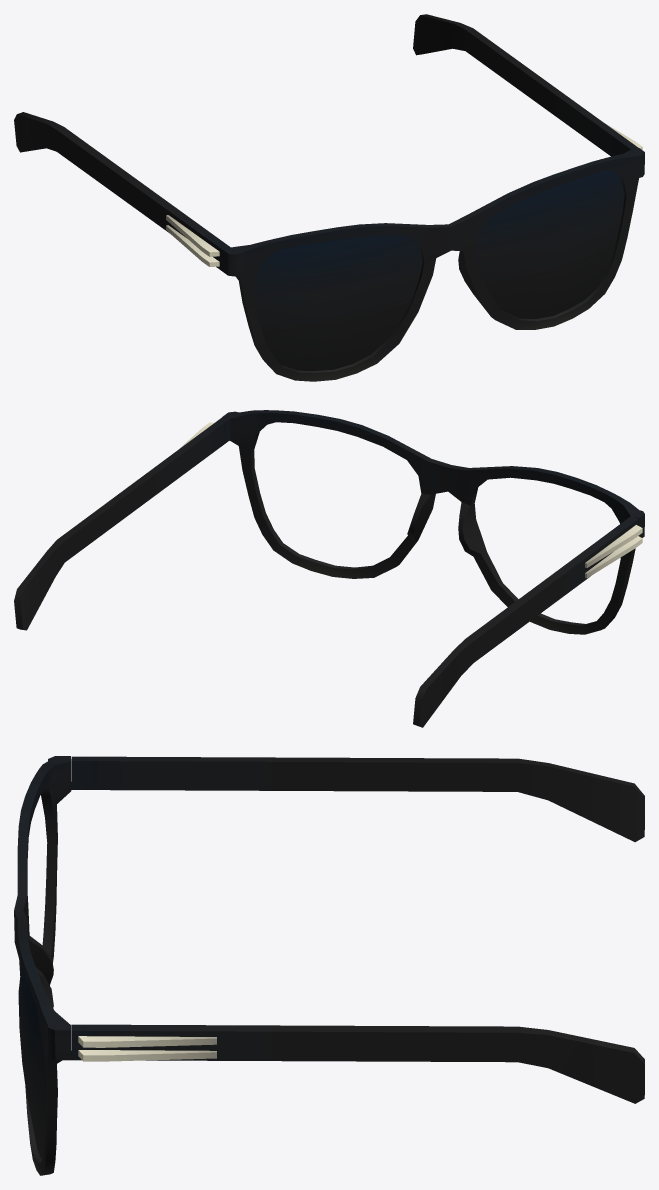
Rendered from Glasses_Sunglasses.gltf.
3 renders of one model, top to bottom at view 1: azimuth 30°, elevation 25°; view 2: azimuth 150°, elevation 25°; view 3: azimuth 270°, elevation 25°, orthographic. The views are drawn at different scales.
Parts seen in each view (by area): view 1: Glasses_Sunglasses; view 2: Glasses_Sunglasses; view 3: Glasses_Sunglasses.
Part boxes in pixels (left/top/right/bottom): Glasses_Sunglasses: left=14, top=14, right=644, bottom=381; Glasses_Sunglasses: left=14, top=410, right=644, bottom=727; Glasses_Sunglasses: left=14, top=756, right=644, bottom=1175.
Size of the model in its own units: 0.9645 by 0.3258 by 0.9023.
Materials: 2 (2 with a texture image).
